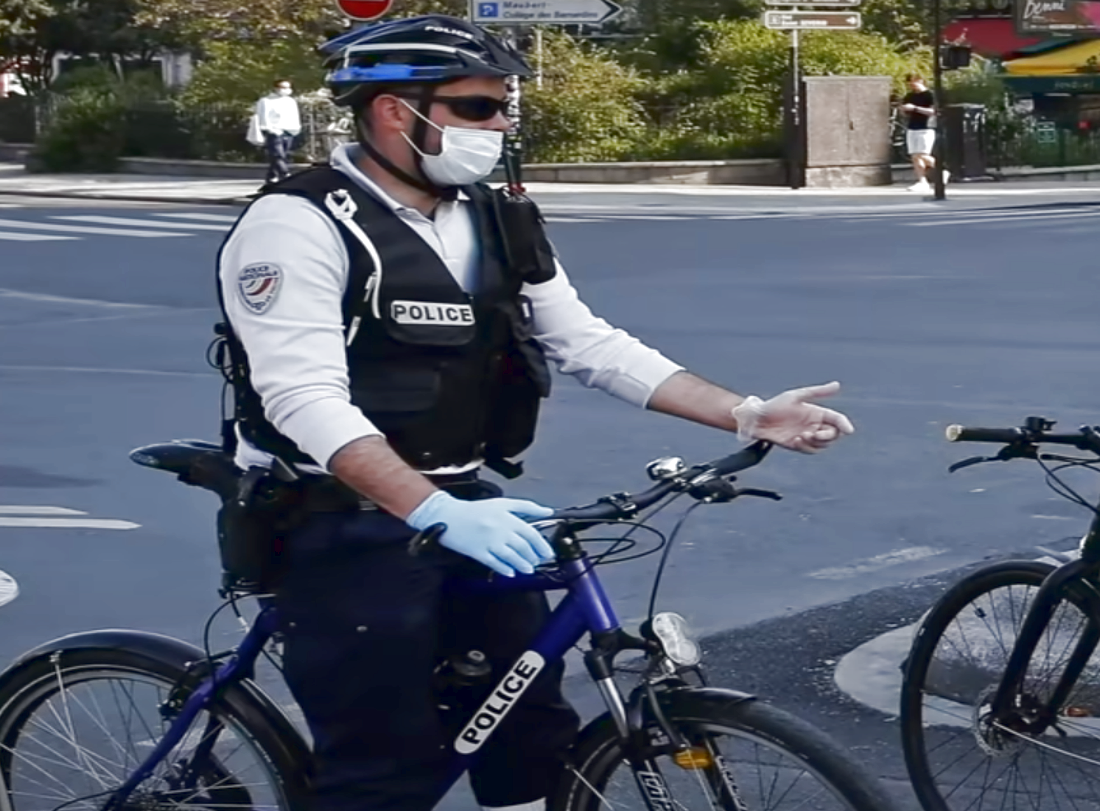mask_weared_incorrect: (336, 22, 519, 196)
